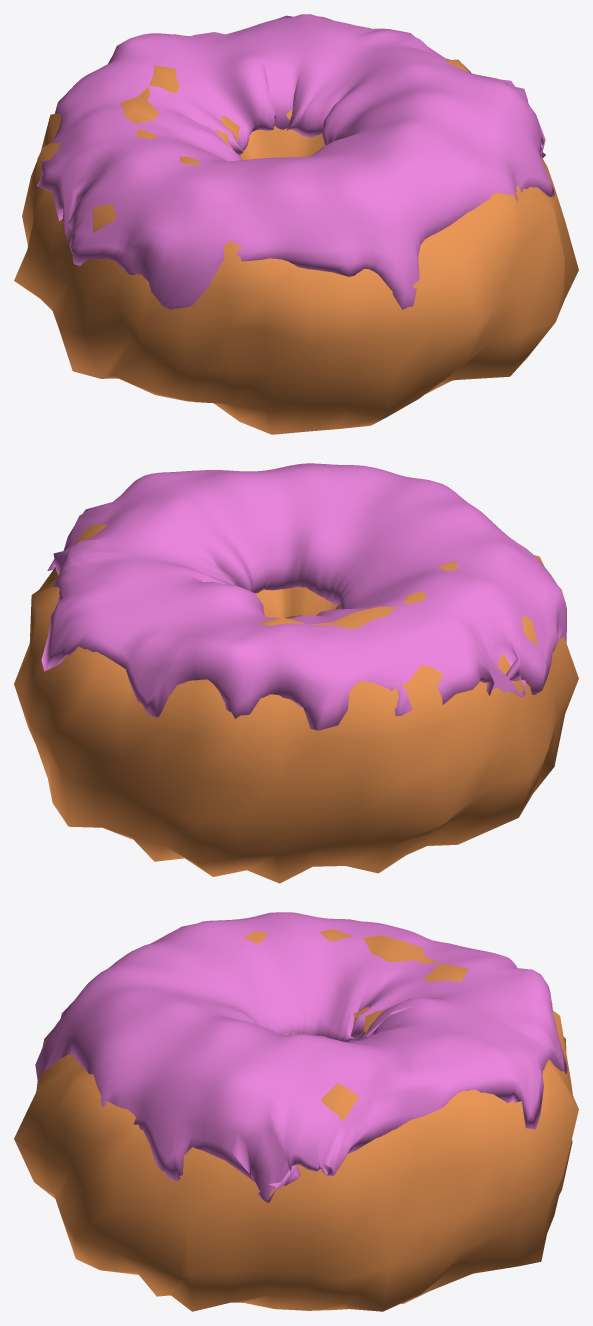
Rendered from Donut.blender.gltf.
3 renders of one model, top to bottom at view 1: azimuth 30°, elevation 25°; view 2: azimuth 150°, elevation 25°; view 3: azimuth 270°, elevation 25°, orthographic. The views are drawn at different scales.
Parts seen in each view (by area): view 1: Icing, Donut; view 2: Icing, Donut; view 3: Icing, Donut.
Part boxes in pixels (x1=…): Icing: x1=36, y1=14, x2=555, y2=309; Donut: x1=14, y1=59, x2=578, y2=434; Icing: x1=41, y1=463, x2=566, y2=730; Donut: x1=14, y1=524, x2=578, y2=883; Icing: x1=35, y1=912, x2=567, y2=1202; Donut: x1=14, y1=928, x2=578, y2=1311.
Size of what is drawn, in the model's own units: 0.1029 by 0.0561 by 0.1065.
